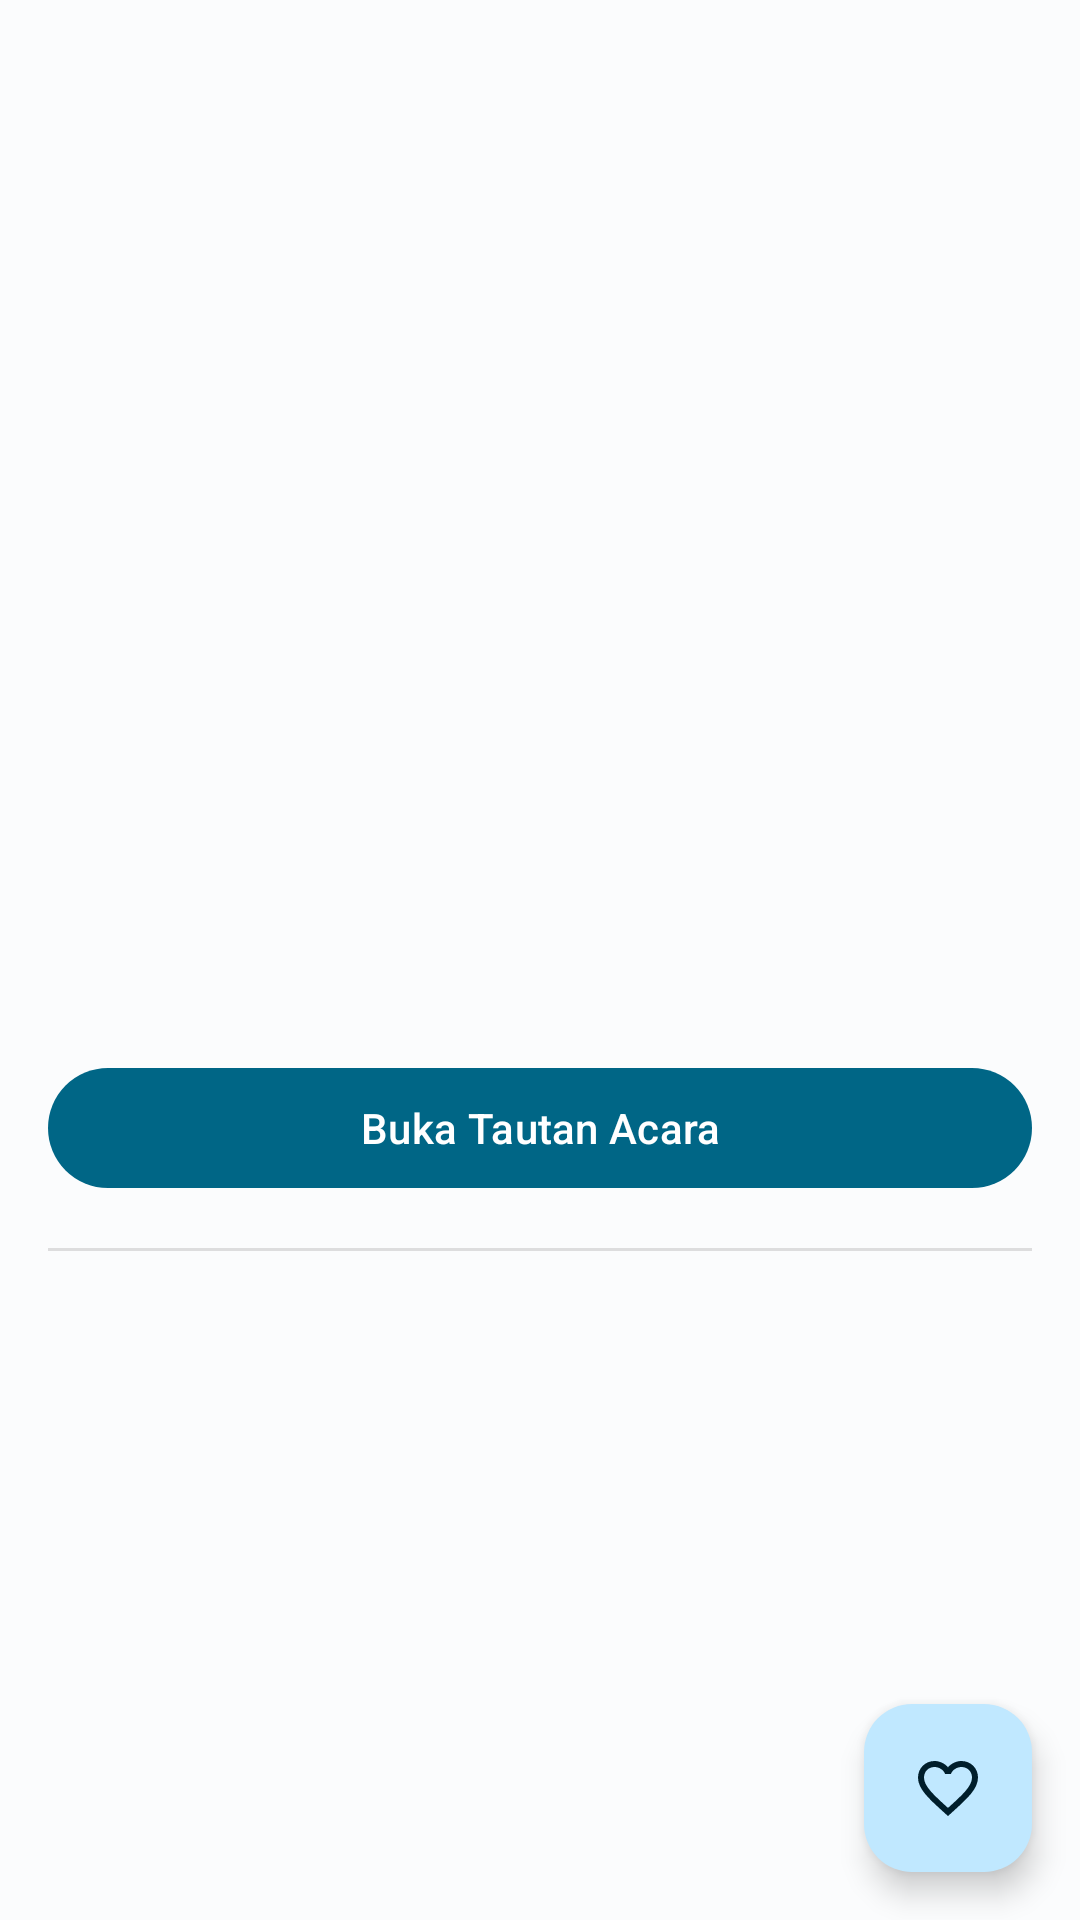

Icons on this 1080w x 1920h Android screen, each with the point to tap as (x=x, y=y):
Favorite: (x=948, y=1788)
